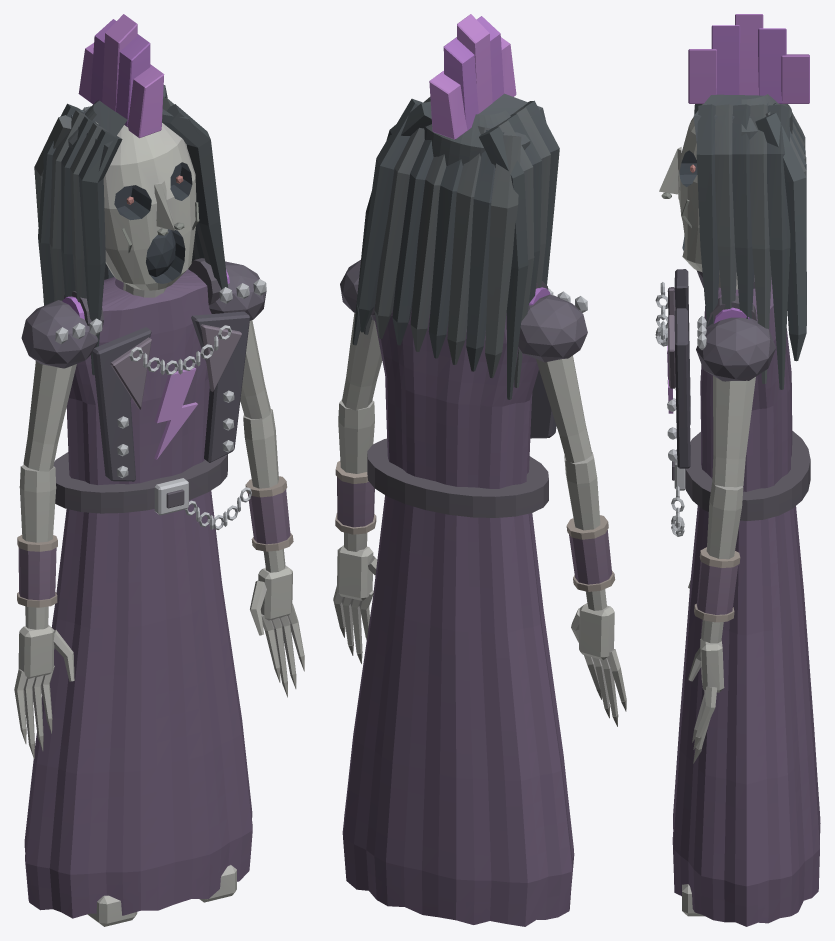
The model's file is SlendrinaPunk.glb.
3 views of the same model, side by side, from view 1: azimuth 30°, elevation 25°; view 2: azimuth 150°, elevation 25°; view 3: azimuth 270°, elevation 25° (orthographic).
Visible parts, largest first — view 1: Body, Head, ArmR, ArmL, LegR; view 2: Body, Head, ArmR, ArmL; view 3: Body, Head, ArmL, LegL.
Part boxes in pixels (left/top/right/bottom): Body: left=24, top=258, right=252, bottom=918; Head: left=34, top=14, right=227, bottom=375; ArmR: left=14, top=300, right=102, bottom=758; ArmL: left=209, top=261, right=304, bottom=697; LegR: left=87, top=895, right=137, bottom=926; Body: left=342, top=281, right=574, bottom=926; Head: left=352, top=14, right=559, bottom=399; ArmR: left=518, top=289, right=626, bottom=726; ArmL: left=333, top=260, right=382, bottom=663; Body: left=655, top=269, right=820, bottom=926; Head: left=659, top=14, right=809, bottom=389; ArmL: left=688, top=316, right=775, bottom=763; LegL: left=682, top=884, right=704, bottom=916.
Size of the model in its own units: 2.44 by 7.18 by 1.24.
